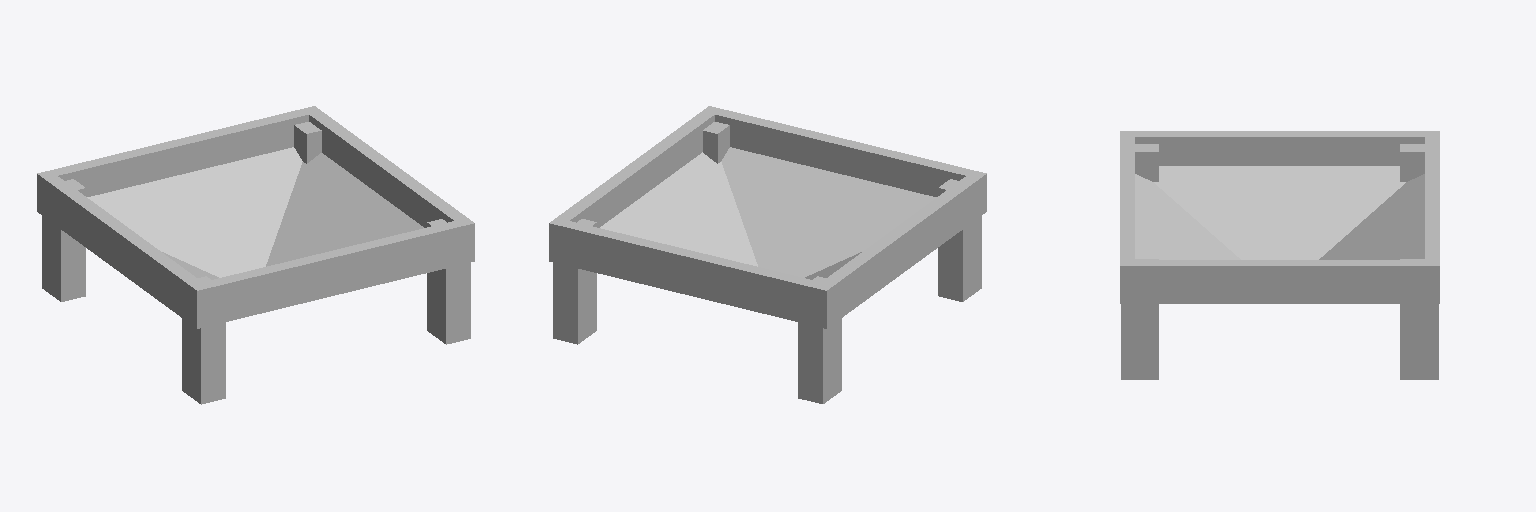
File: mechanical_sieve_hopper.obj
The picture shows the model from 3 angles: view 1: azimuth 30°, elevation 25°; view 2: azimuth 150°, elevation 25°; view 3: azimuth 270°, elevation 25°; orthographic projection.
Parts seen in each view (by area): view 1: sieve_hopper; view 2: sieve_hopper; view 3: sieve_hopper.
Part boxes in pixels (x1,y1,x2,y2): sieve_hopper: (37,106,474,404); sieve_hopper: (549,106,986,403); sieve_hopper: (1120,131,1439,379).
Bounding box in the file's own units: 1 × 0.3965 × 1.